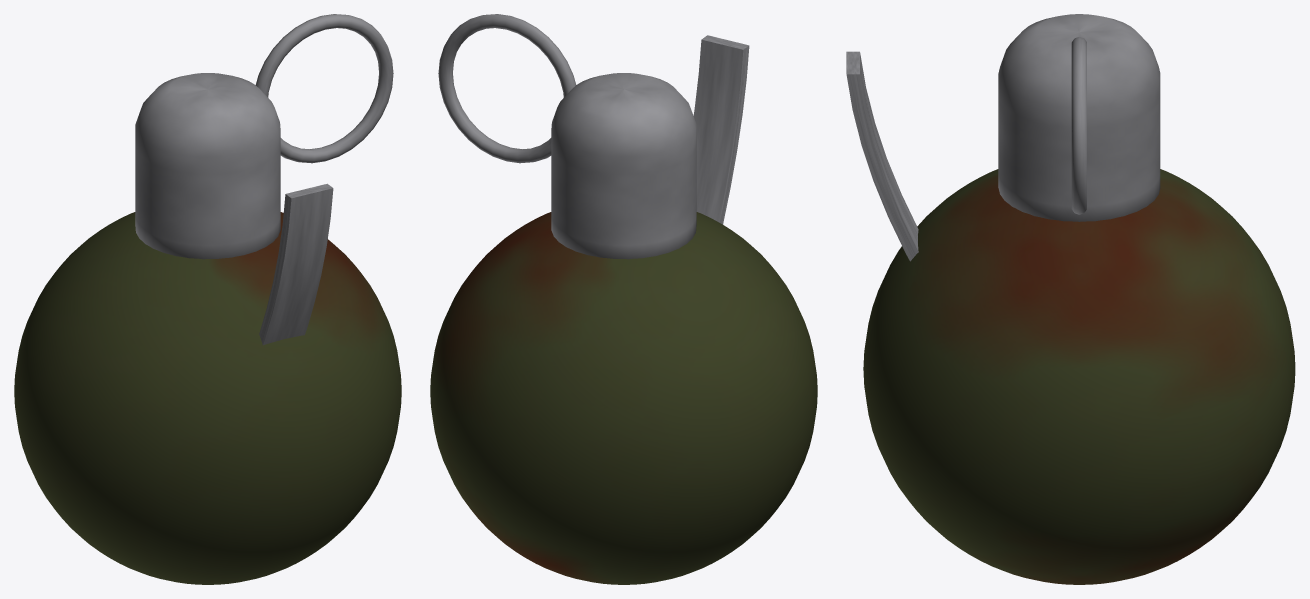
The model's file is grenade_L2.glb.
3 views of the same model, side by side, from view 1: azimuth 30°, elevation 25°; view 2: azimuth 150°, elevation 25°; view 3: azimuth 270°, elevation 25° (orthographic). The views are drawn at different scales.
Visible parts, largest first — view 1: body, fuze, lever, pin; view 2: body, fuze, lever, pin; view 3: body, fuze, lever, pin.
Part boxes in pixels (x1,y1,x2,y2): body: (14, 212, 401, 584); fuze: (135, 73, 280, 259); lever: (259, 183, 333, 345); pin: (256, 14, 393, 163); body: (430, 212, 817, 584); fuze: (551, 73, 696, 259); lever: (693, 35, 749, 224); pin: (438, 14, 575, 163); body: (863, 169, 1295, 584); fuze: (998, 14, 1160, 221); lever: (846, 51, 918, 261); pin: (1071, 37, 1086, 214).
Bounding box in the file's own units: 0.0672 × 0.0952 × 0.0665.
2 materials, 2 textured.
